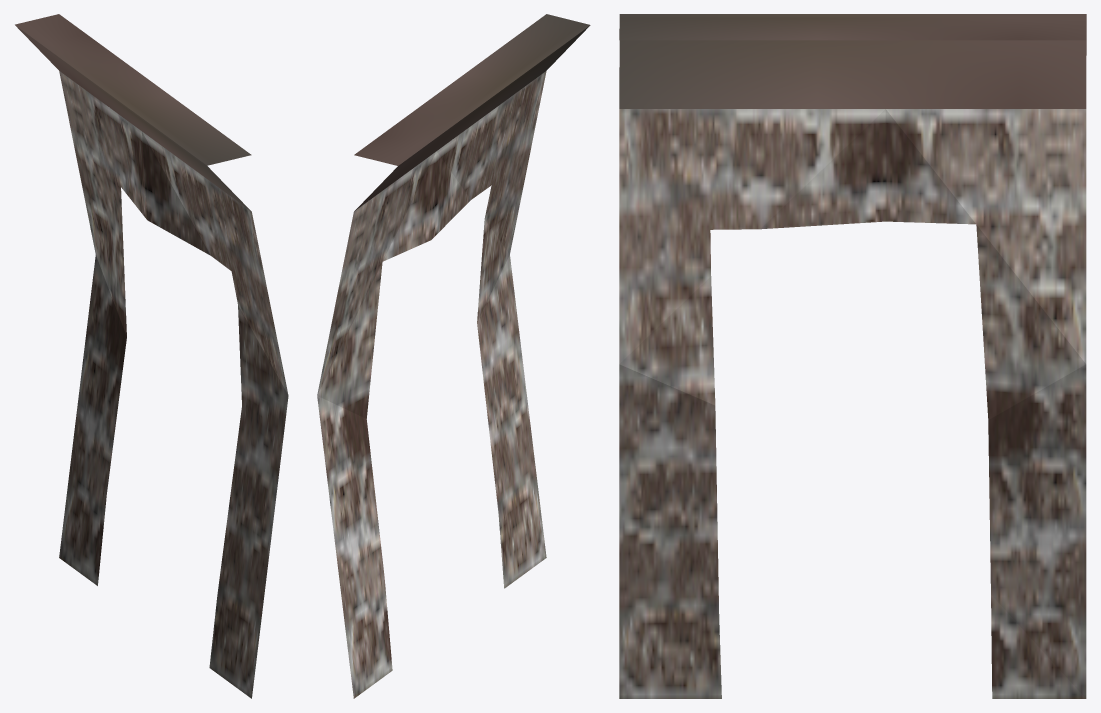
The model's file is W_A3_o [Steine]_1018.glb.
3 renders of one model, left to right at view 1: azimuth 30°, elevation 25°; view 2: azimuth 150°, elevation 25°; view 3: azimuth 270°, elevation 25°, orthographic. The views are drawn at different scales.
Visible parts, largest first — view 1: polySurfaceShape1213, polySurfaceShape1215; view 2: polySurfaceShape1213, polySurfaceShape1215; view 3: polySurfaceShape1213, polySurfaceShape1215.
Part boxes in pixels (left/top/right/bottom): polySurfaceShape1213: left=59, top=71, right=288, bottom=698; polySurfaceShape1215: left=15, top=14, right=251, bottom=211; polySurfaceShape1213: left=317, top=71, right=546, bottom=698; polySurfaceShape1215: left=354, top=14, right=590, bottom=211; polySurfaceShape1213: left=619, top=109, right=1086, bottom=698; polySurfaceShape1215: left=619, top=14, right=1086, bottom=108.
Size of the model in its own units: 0.0607 by 0.3891 by 0.2503.
2 materials, 2 textured.
